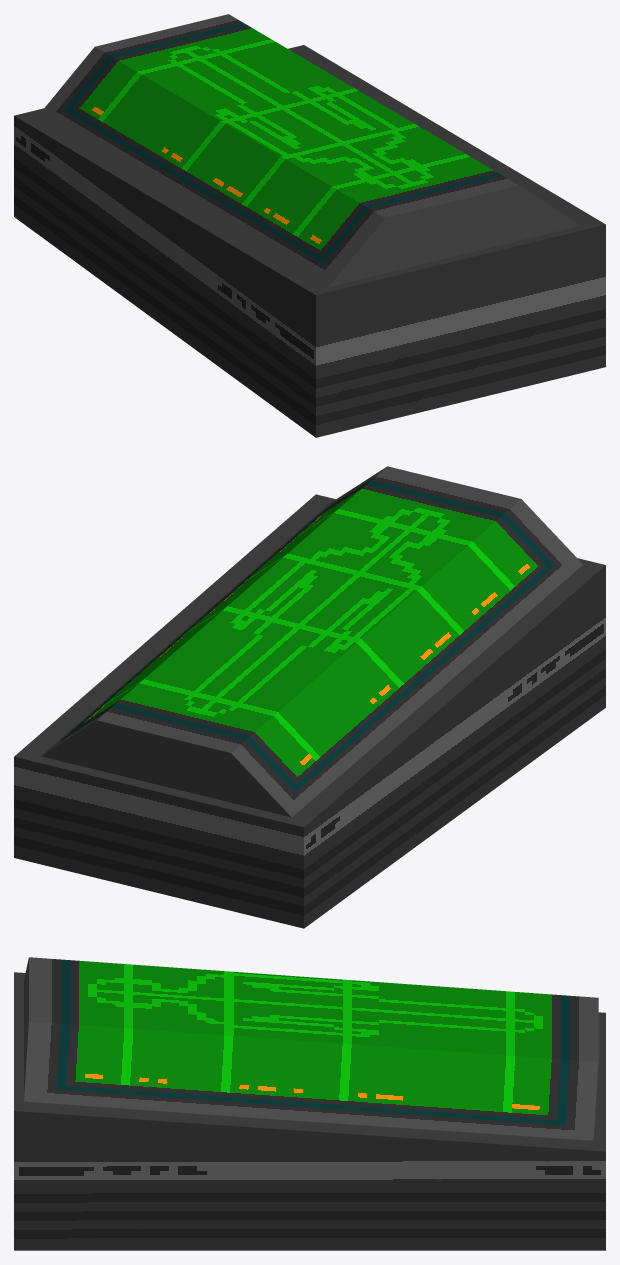
The picture shows the model from 3 angles, top to bottom: view 1: azimuth 30°, elevation 25°; view 2: azimuth 150°, elevation 25°; view 3: azimuth 270°, elevation 25°; orthographic projection. The views are drawn at different scales.
Parts seen in each view (by area): view 1: ss3d_21_surg_mach; view 2: ss3d_21_surg_mach; view 3: ss3d_21_surg_mach.
Part boxes in pixels (x1,y1,x2,y2): ss3d_21_surg_mach: (14,14,605,437); ss3d_21_surg_mach: (14,466,605,928); ss3d_21_surg_mach: (14,957,605,1250).
Bounding box in the file's own units: 0.4641 × 0.2988 × 0.8367.
Materials: 1 (1 with a texture image).
